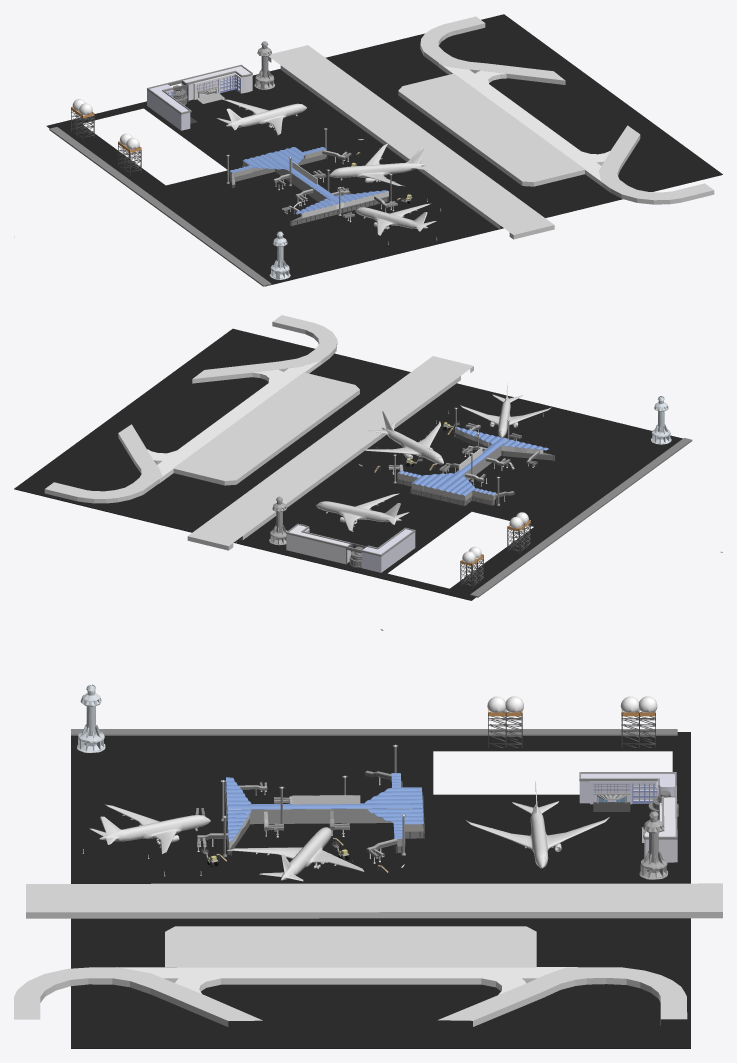
Rendered from airport-kit.glb.
3 renders of one model, top to bottom at view 1: azimuth 30°, elevation 25°; view 2: azimuth 150°, elevation 25°; view 3: azimuth 270°, elevation 25°, orthographic. The views are drawn at different scales.
Visible parts, largest first — view 1: tarmac, white (×7), metal (×6), glass; view 2: tarmac, white (×7), metal (×6), glass; view 3: tarmac, white (×7), metal (×5), glass.
Boxes of the visible parts, x1=… form: tarmac: x1=46, y1=14, x2=722, y2=286; white (×7): x1=14, y1=16, x2=714, y2=279; metal (×6): x1=49, y1=41, x2=410, y2=286; glass: x1=230, y1=147, x2=388, y2=214; tarmac: x1=14, y1=328, x2=682, y2=600; white (×7): x1=44, y1=315, x2=722, y2=572; metal (×6): x1=269, y1=419, x2=692, y2=597; glass: x1=398, y1=427, x2=548, y2=495; tarmac: x1=71, y1=732, x2=690, y2=1048; white (×7): x1=14, y1=629, x2=722, y2=1026; metal (×5): x1=71, y1=711, x2=677, y2=879; glass: x1=226, y1=773, x2=423, y2=841.
Size of the model in its own units: 318 by 22.77 by 230.
